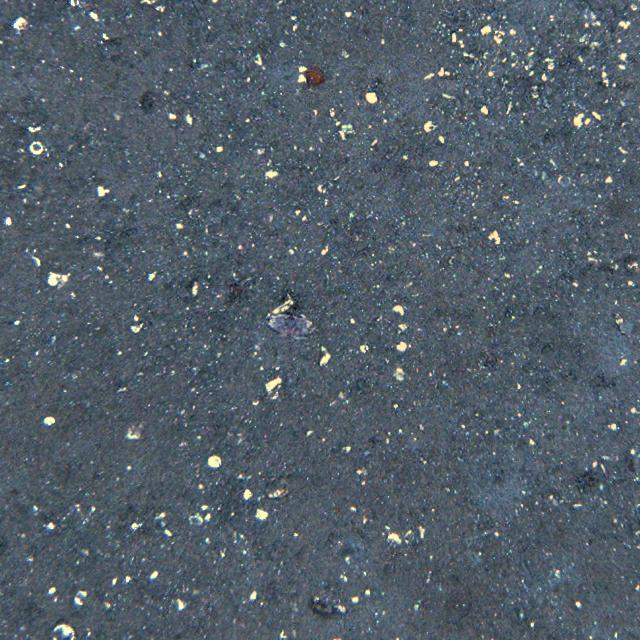crab: (262, 311, 317, 344)
